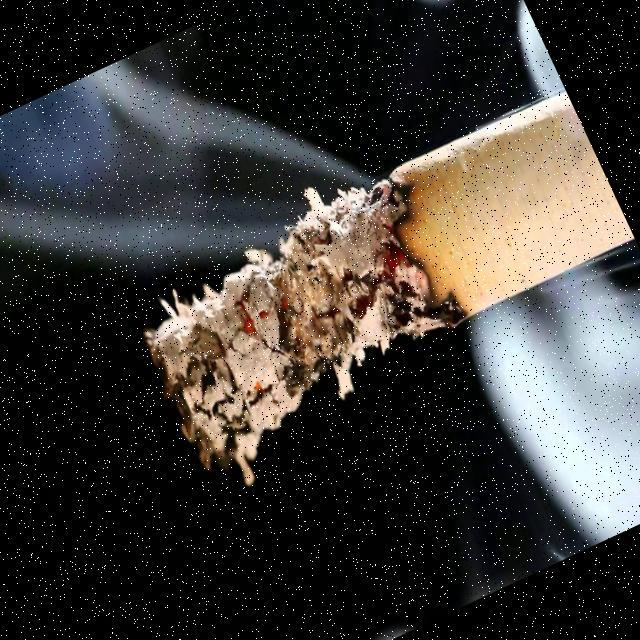cigarette: (118, 100, 640, 464)
